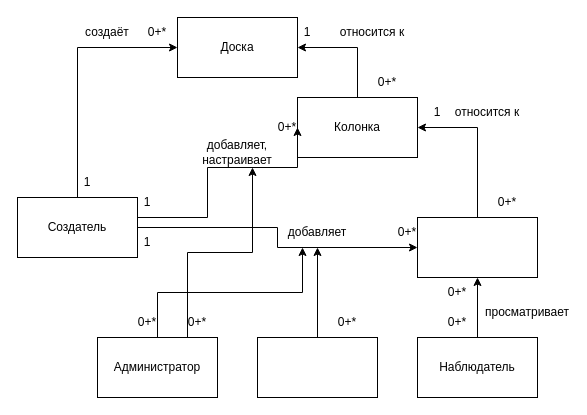
Some shapes in this 587 by 415 pixel diagram are drawn without their labels. The shapes that lost their labels are listed below. From the top down, each one's centre as x and y in pixels, then its label:
point 477,247: Карточка
point 317,367: Пользователь
